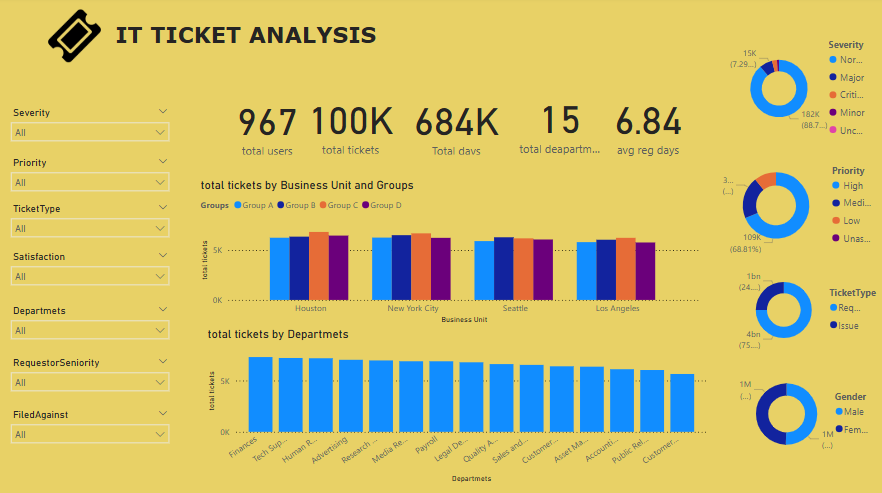

This screenshot's page, from the dashboard's own definition file:
{"tool":"powerbi","page":{"name":"Page 1","canvas":[1280,720],"ordinal":0},"visuals":[{"type":"textbox","box":[168,28.6,409.9,57.1],"z":0},{"type":"image","box":[60.5,13.4,107.5,85.7],"z":1000},{"type":"card","fields":{"Values":["IT-Help-Desk.Total users"]},"box":[596,133.9,136.3,97.7],"z":2000},{"type":"card","fields":{"Values":["IT-Help-Desk.total tickets"]},"box":[445,132.5,133.9,97.9],"z":3000},{"type":"card","fields":{"Values":["IT-Help-Desk.total deapartments"]},"box":[749.2,127.9,129.1,103.8],"z":4000},{"type":"slicer","fields":{"Values":["IT-Help-Desk.Severity"]},"box":[13,152.6,247.7,72],"z":5000},{"type":"slicer","fields":{"Values":["IT-Help-Desk.Priority"]},"box":[13,224.6,247.7,66.2],"z":6000},{"type":"slicer","fields":{"Values":["IT-Help-Desk.TicketType"]},"box":[13,290.9,247.7,74.9],"z":7000},{"type":"slicer","fields":{"Values":["IT-Help-Desk.Satisfaction"]},"box":[13,360,247.7,77.8],"z":8000},{"type":"slicer","fields":{"Values":["IT-Help-Desk.Departmets"]},"box":[13,437.8,247.7,74.9],"z":9000},{"type":"slicer","fields":{"Values":["IT-Help-Desk.RequestorSeniority"]},"box":[13,512.6,247.7,74.9],"z":10000},{"type":"slicer","fields":{"Values":["IT-Help-Desk.FiledAgainst"]},"box":[13,587.5,247.7,74.9],"z":11000},{"type":"donutChart","fields":{"Y":["Sum(IT-Help-Desk.Severity rating)"],"Category":["IT-Help-Desk.Severity"]},"box":[1052.6,38.9,214.6,185.8],"z":12000},{"type":"donutChart","fields":{"Y":["Sum(IT-Help-Desk.Priority rating)"],"Category":["IT-Help-Desk.Priority"]},"box":[1039.7,224.6,240.5,151.2],"z":13000},{"type":"donutChart","fields":{"Y":["Sum(IT-Help-Desk.ticket)"],"Category":["IT-Help-Desk.TicketType"]},"box":[1065.6,375.8,214.6,149.8],"z":14000},{"type":"donutChart","fields":{"Category":["IT-Help-Desk.Gender"],"Y":["Sum(IT-Help-Desk.ITOwner)"]},"box":[1065.6,525.6,214.6,149.8],"z":15000},{"type":"clusteredColumnChart","fields":{"Y":["IT-Help-Desk.total tickets"],"Category":["IT-Help-Desk.Business Unit"],"Series":["IT-Help-Desk.Groups"]},"box":[290.9,260.6,728.6,214.6],"z":16000},{"type":"clusteredColumnChart","fields":{"Y":["IT-Help-Desk.total tickets"],"Category":["IT-Help-Desk.Departmets"]},"box":[301,475.2,728.6,229],"z":17000},{"type":"card","fields":{"Values":["IT-Help-Desk.avg reg days"]},"box":[896.4,100.1,123.1,131.5],"z":17001},{"type":"card","fields":{"Values":["IT-Help-Desk.total users"]},"box":[337.8,133.9,107.4,97.7],"z":17002}]}

Visuals, with their boxes in screenshot pixels (x1, y1, x2, y2), scaled from the page's 1280x720 canvas onto the 882x493 screenshot:
textbox: x1=116, y1=20, x2=398, y2=59
image: x1=42, y1=9, x2=116, y2=68
card - IT-Help-Desk.Total users: x1=411, y1=92, x2=505, y2=159
card - IT-Help-Desk.total tickets: x1=307, y1=91, x2=399, y2=158
card - IT-Help-Desk.total deapartments: x1=516, y1=88, x2=605, y2=159
slicer - IT-Help-Desk.Severity: x1=9, y1=104, x2=180, y2=154
slicer - IT-Help-Desk.Priority: x1=9, y1=154, x2=180, y2=199
slicer - IT-Help-Desk.TicketType: x1=9, y1=199, x2=180, y2=250
slicer - IT-Help-Desk.Satisfaction: x1=9, y1=246, x2=180, y2=300
slicer - IT-Help-Desk.Departmets: x1=9, y1=300, x2=180, y2=351
slicer - IT-Help-Desk.RequestorSeniority: x1=9, y1=351, x2=180, y2=402
slicer - IT-Help-Desk.FiledAgainst: x1=9, y1=402, x2=180, y2=454
donutChart - Sum(IT-Help-Desk.Severity rating) x IT-Help-Desk.Severity: x1=725, y1=27, x2=873, y2=154
donutChart - Sum(IT-Help-Desk.Priority rating) x IT-Help-Desk.Priority: x1=716, y1=154, x2=881, y2=257
donutChart - Sum(IT-Help-Desk.ticket) x IT-Help-Desk.TicketType: x1=734, y1=257, x2=881, y2=360
donutChart - IT-Help-Desk.Gender x Sum(IT-Help-Desk.ITOwner): x1=734, y1=360, x2=881, y2=462
clusteredColumnChart - IT-Help-Desk.total tickets x IT-Help-Desk.Business Unit: x1=200, y1=178, x2=702, y2=325
clusteredColumnChart - IT-Help-Desk.total tickets x IT-Help-Desk.Departmets: x1=207, y1=325, x2=709, y2=482
card - IT-Help-Desk.avg reg days: x1=618, y1=69, x2=702, y2=159
card - IT-Help-Desk.total users: x1=233, y1=92, x2=307, y2=159
